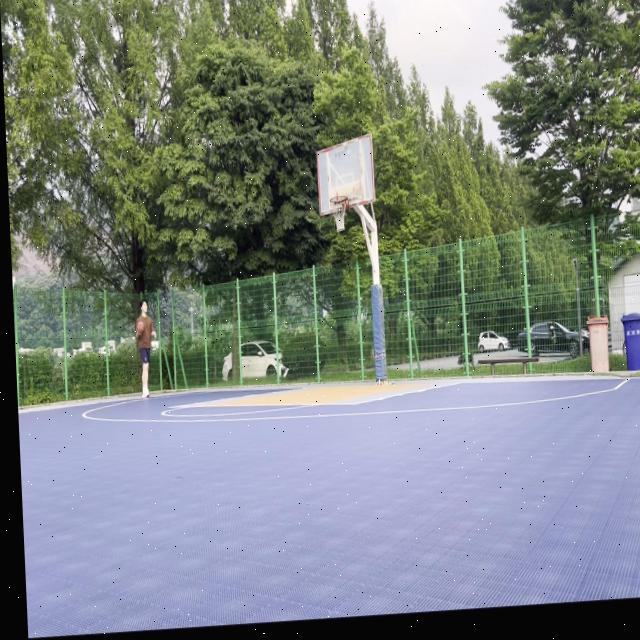basketball: (136, 320, 145, 337)
hoop: (329, 195, 350, 233)
